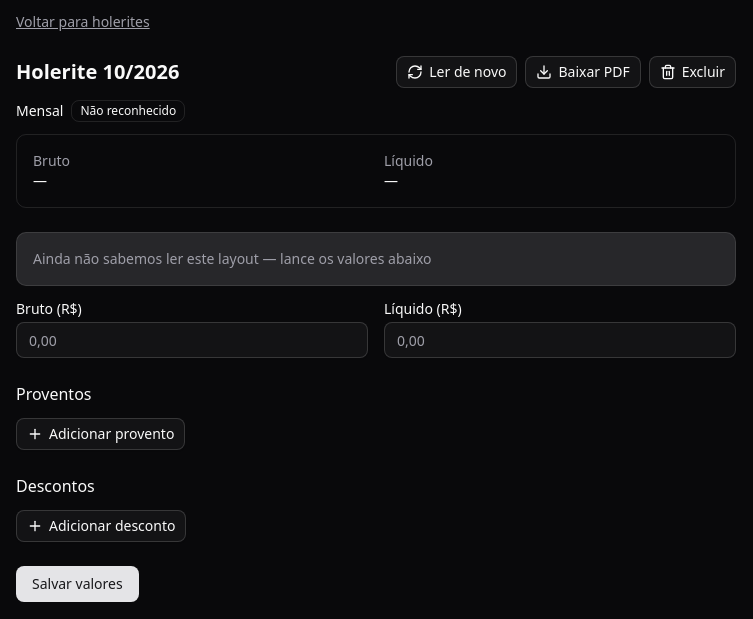
Test: PayslipDetail › reads an unrecognized payslip again and shows the lines
The width and height of the screenshot is (753, 619).
Click the button "Ler de novo".
click(457, 72)  # box x1=396 y1=56 x2=518 y2=88
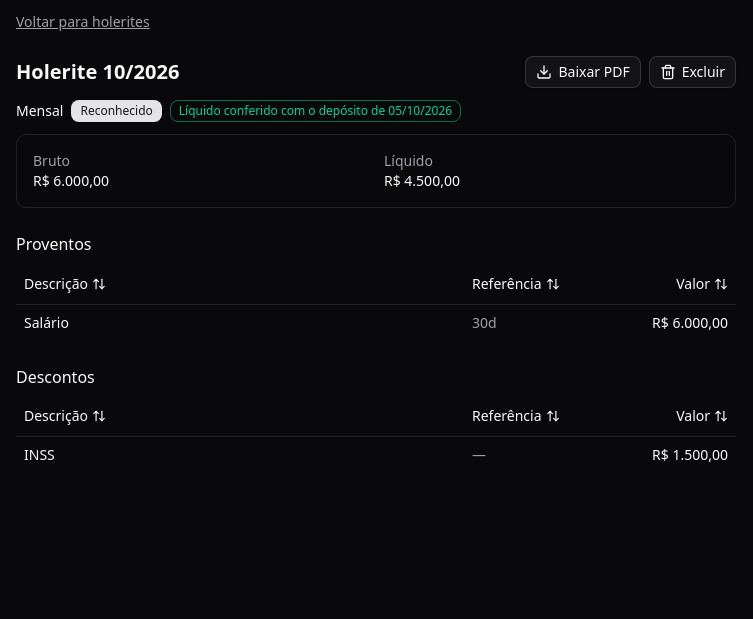
Expected: the text "INSS" is shown, x1=16 y1=436 x2=464 y2=473
